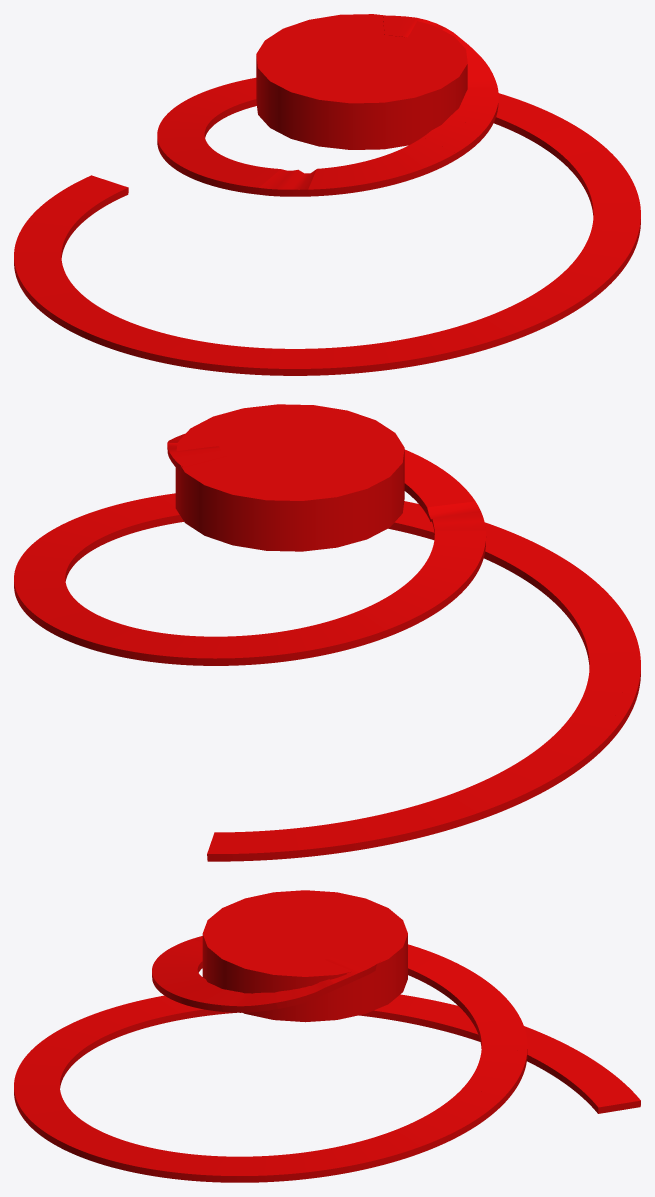
The model's file is TopSectionCollision.fbx.
3 views of the same model, one above another, from view 1: azimuth 30°, elevation 25°; view 2: azimuth 150°, elevation 25°; view 3: azimuth 270°, elevation 25° (orthographic). The views are drawn at different scales.
Parts seen in each view (by area): view 1: TopSectionCollision; view 2: TopSectionCollision; view 3: TopSectionCollision.
Part boxes in pixels (x1,y1,x2,y2): TopSectionCollision: (14, 14, 640, 375); TopSectionCollision: (14, 404, 640, 861); TopSectionCollision: (14, 890, 640, 1182).
Size of the model in its own units: 8578 by 3565 by 9228.
